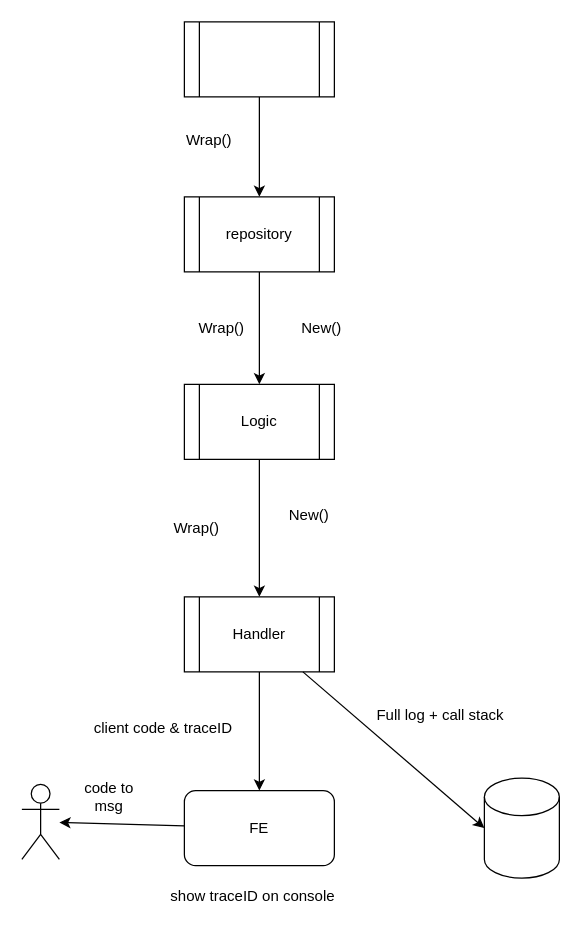
Image size: 581x938. Some labels were removed from this diagram. Each missing label, with the centre of its shape:
"3rd" belongs at (x=258, y=59).
"Actor" belongs at (x=40, y=821).
